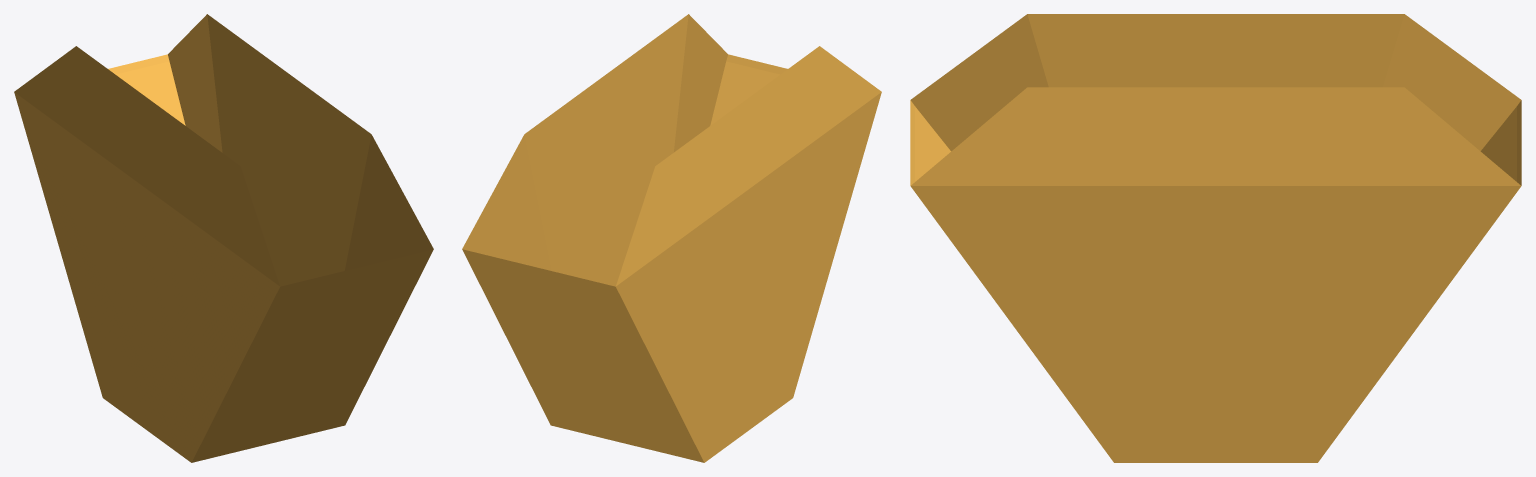
File: Empty Skip.obj
3 views of the same model, side by side, from view 1: azimuth 30°, elevation 25°; view 2: azimuth 150°, elevation 25°; view 3: azimuth 270°, elevation 25° (orthographic). The views are drawn at different scales.
Parts seen in each view (by area): view 1: Cube; view 2: Cube; view 3: Cube.
Part boxes in pixels (x1,y1,x2,y2): Cube: (14,14,433,462); Cube: (462,14,881,462); Cube: (910,14,1521,462).
Size of the model in its own units: 2 by 4 by 6.
